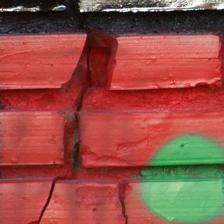Crack: (0, 11, 106, 124), (0, 0, 166, 40)
